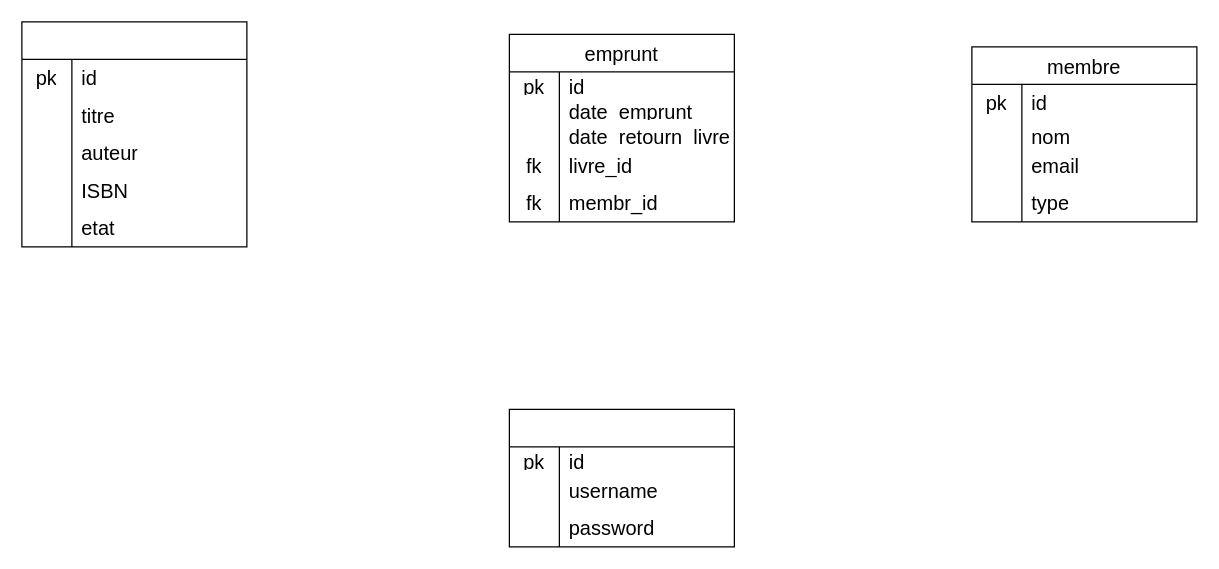
This 1219x569 diagram has some shape labels left out. The shapes that lost their labels are listed below. From the top down, each one's box as (x1, y1, x2, y2) in pixels, then its label:
(21, 21, 247, 247): livre
(508, 408, 734, 547): admin
